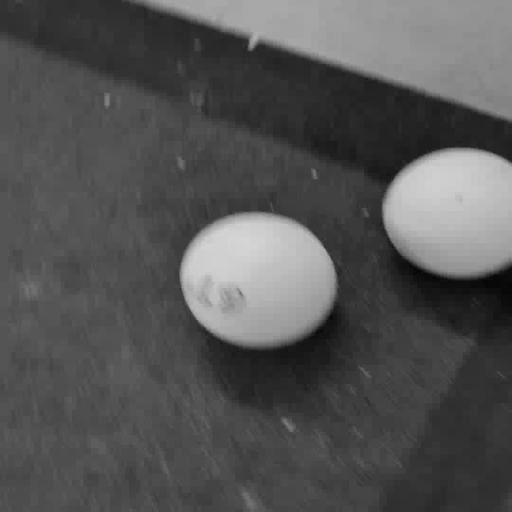fuel: (180, 212, 337, 348), (383, 148, 511, 279)
